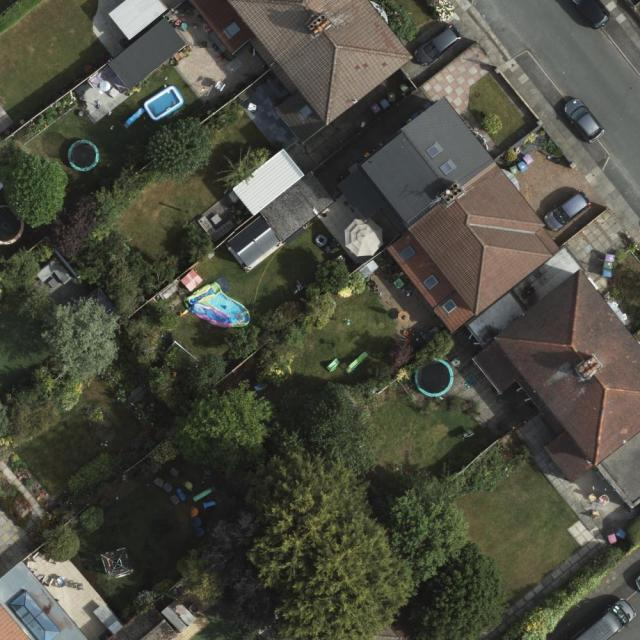roof: (334, 95, 640, 508), (186, 0, 413, 147), (0, 561, 90, 640)
skylight: (8, 591, 62, 639), (422, 271, 442, 294), (222, 20, 244, 40), (425, 140, 445, 160), (435, 158, 457, 176), (399, 245, 416, 261), (441, 299, 458, 315), (297, 104, 312, 120)
